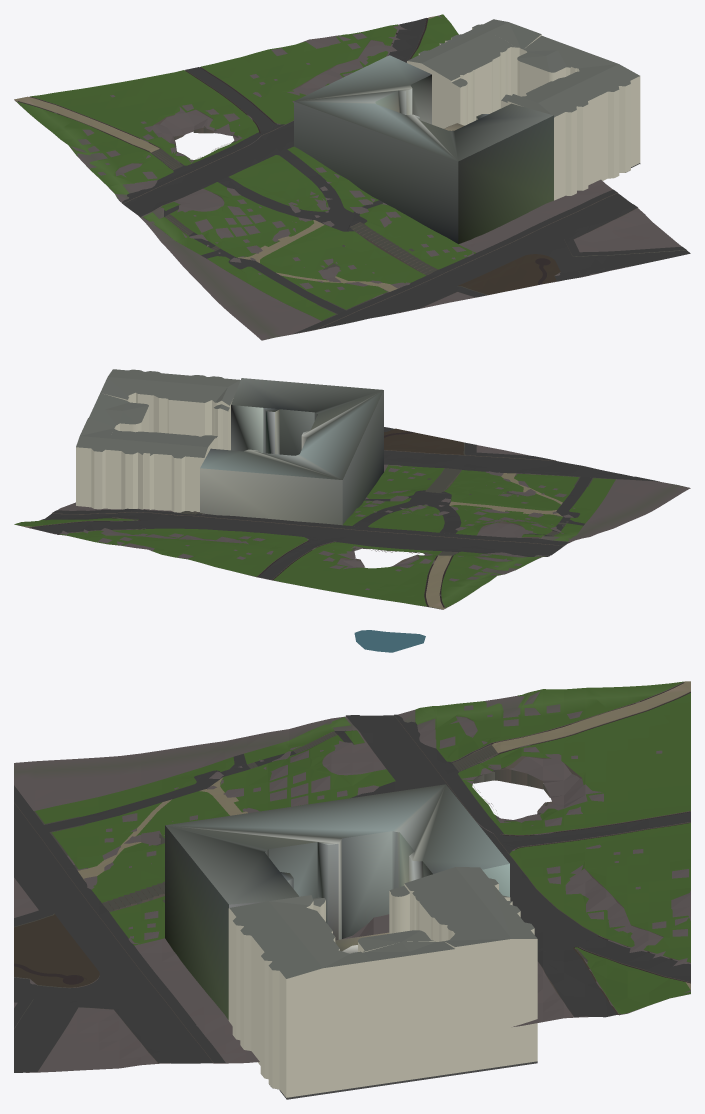
3 views of the same model, one above another, from view 1: azimuth 30°, elevation 25°; view 2: azimuth 150°, elevation 25°; view 3: azimuth 270°, elevation 25° (orthographic). The views are drawn at different scales.
Visible parts, largest first — view 1: c_p00_p07; view 2: c_p00_p07; view 3: c_p00_p07.
Part boxes in pixels (box(x1,y1,x2,y2)): c_p00_p07: box(14, 14, 690, 340); c_p00_p07: box(14, 369, 690, 652); c_p00_p07: box(14, 681, 690, 1099).
Bounding box in the file's own units: 143 × 36.81 × 128.
